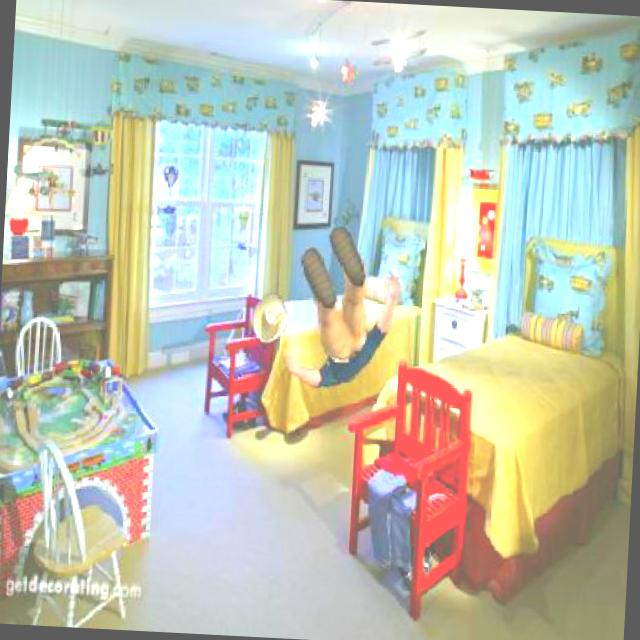Person: (274, 211, 408, 399)
